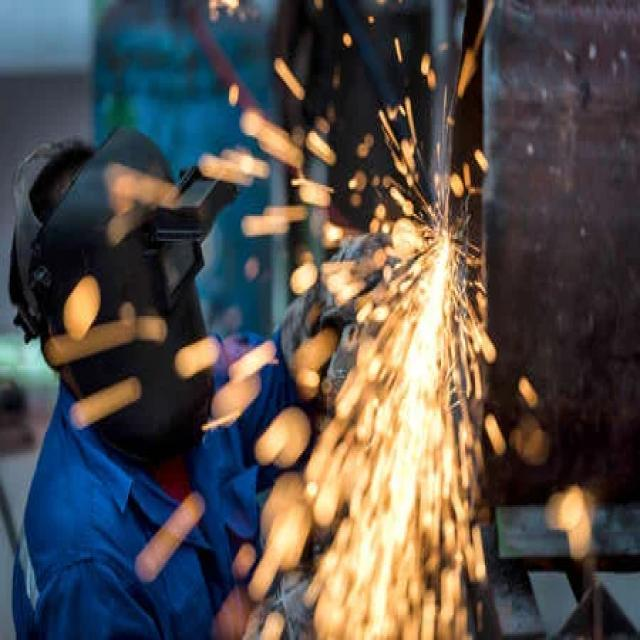with_helmet: (0, 122, 243, 467)
